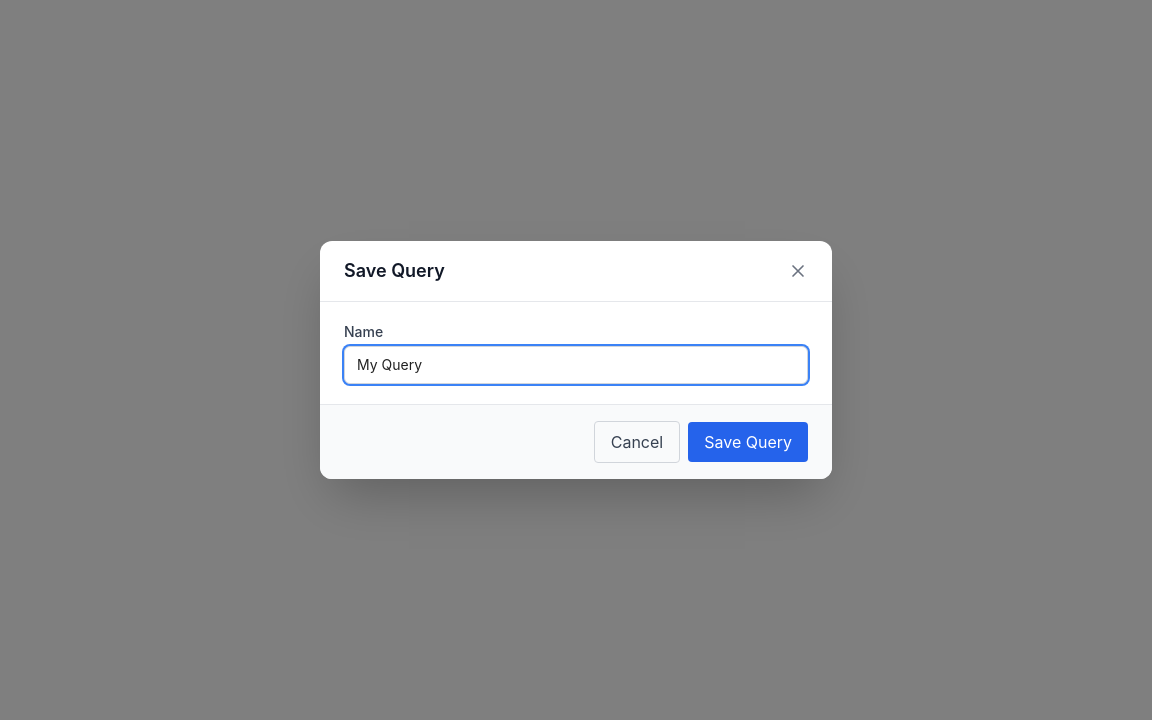
it: SaveQueryModal Component › Form Validation › clears error when user types
The width and height of the screenshot is (1152, 720).
Note: First trigger the error by submitting with empty name
Clear the field labelled "Name" at (576, 365), box [344, 346, 808, 384]
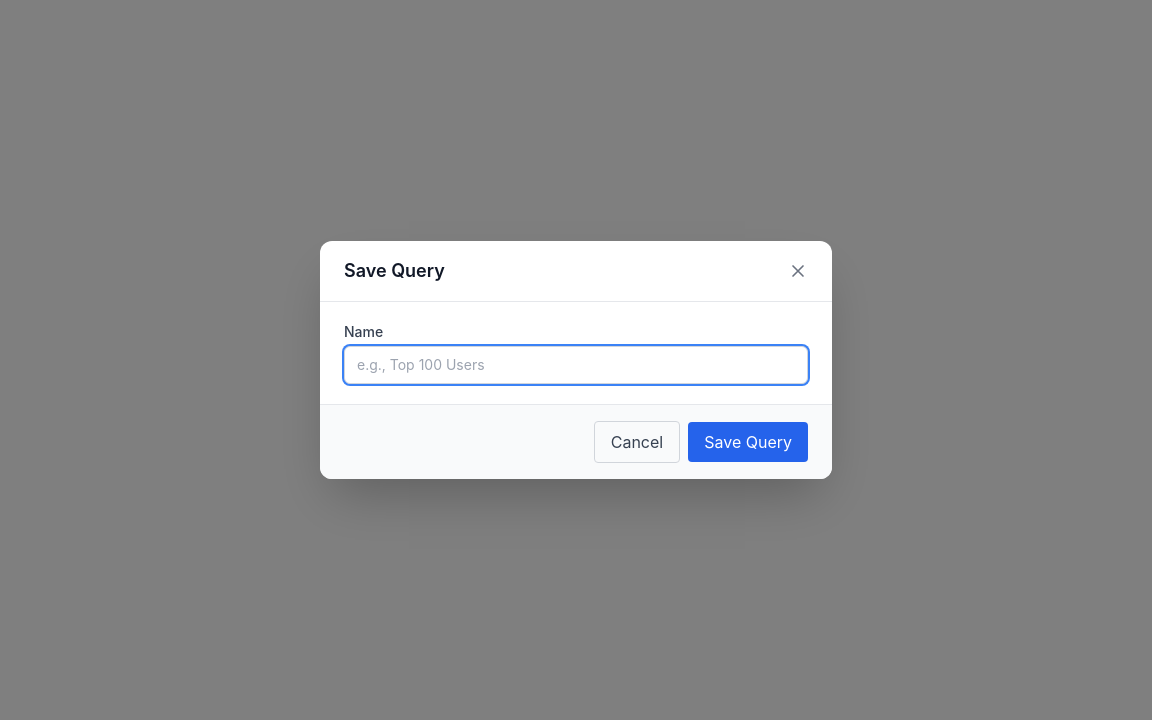
Submit the form, box [320, 241, 832, 479]
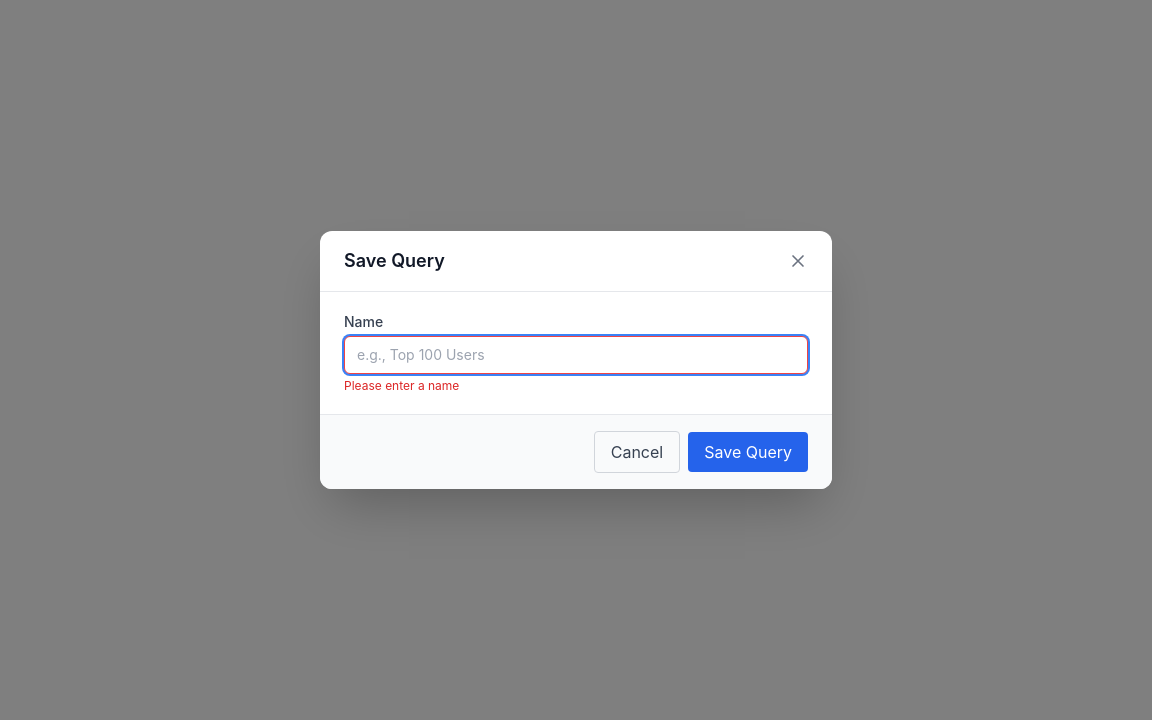
Now the text "Please enter a name" is shown, box [344, 378, 459, 393]
Note: Now type something to clear the error
Type "a" into the field labelled "Name" at (576, 355), box [344, 336, 808, 374]
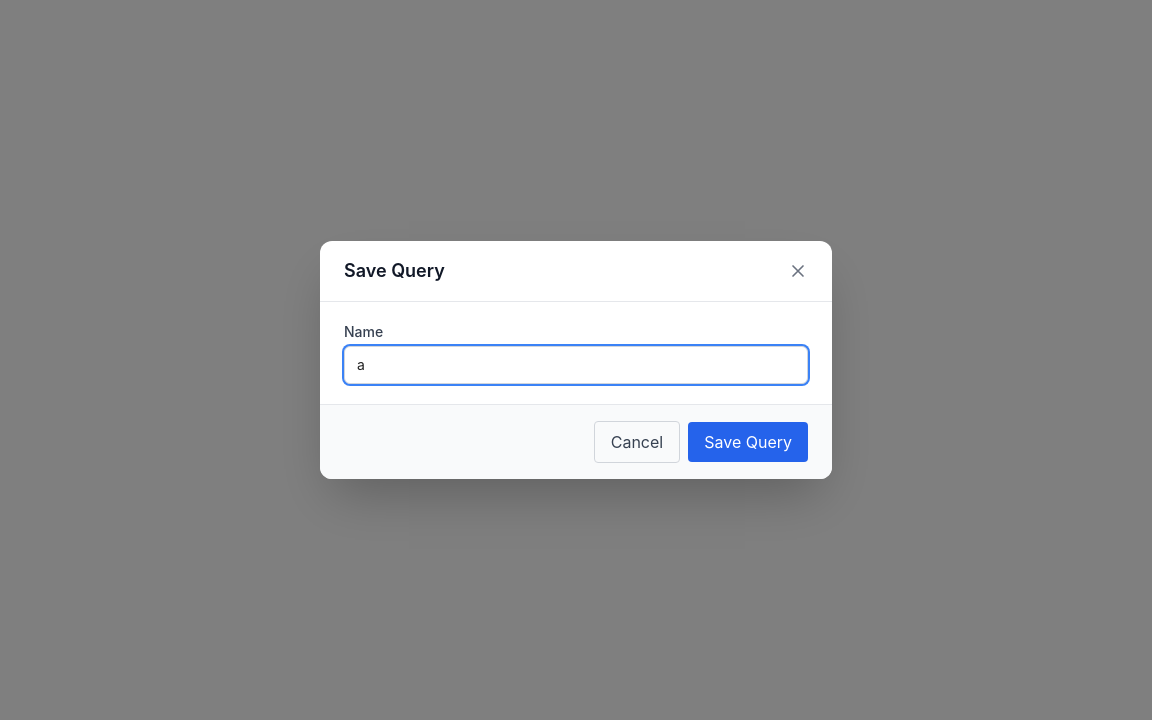
Now the text "Please enter a name" is gone
